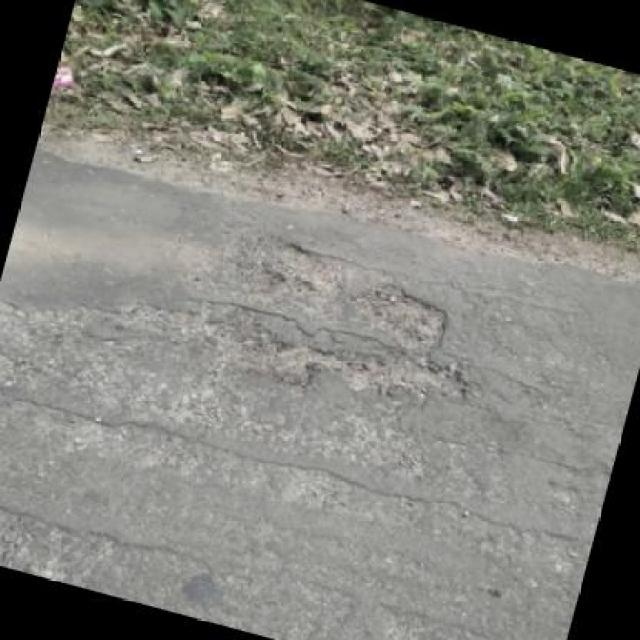pothole1: (192, 220, 500, 435)
